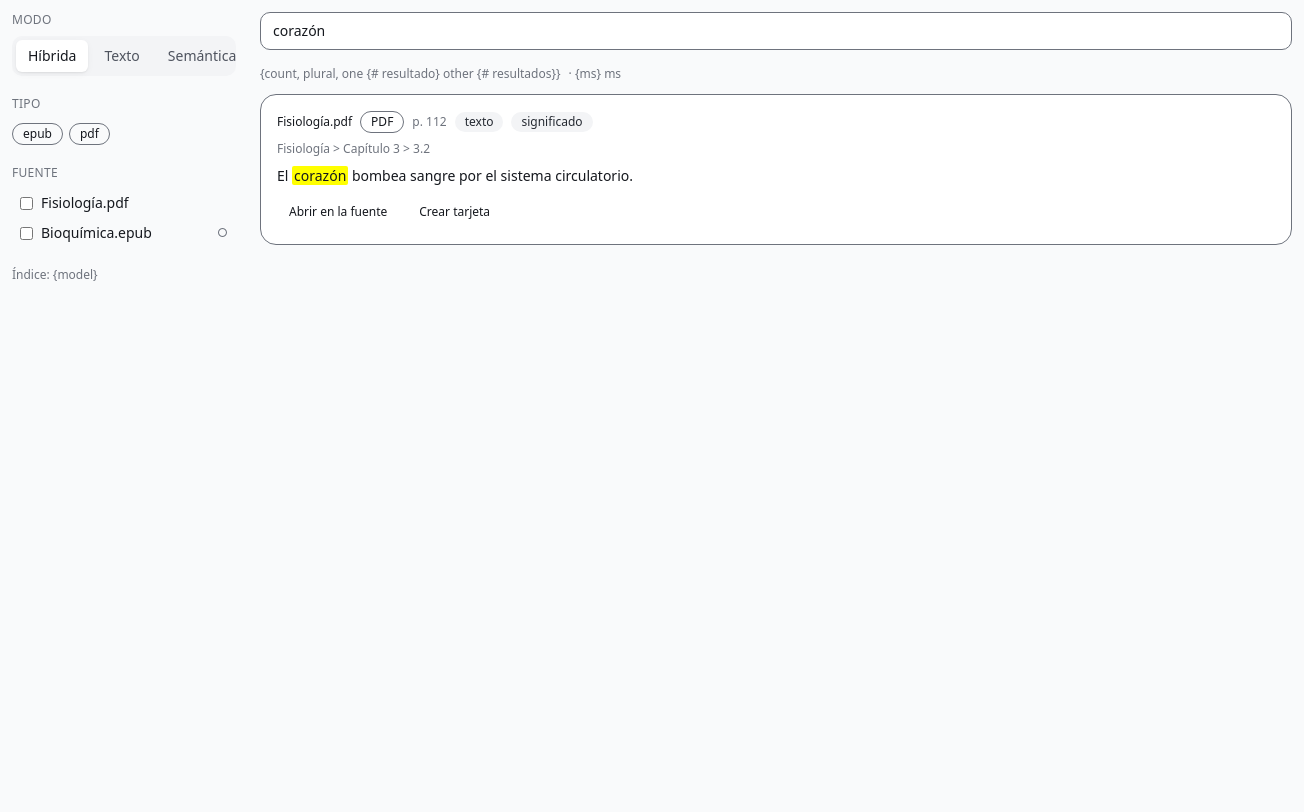
Test: the search screen › surfaces a failure to create the card rather than swallowing it
The image size is (1304, 812).
Click the button "Crear tarjeta". click: (455, 212)
box: [407,196,502,228]
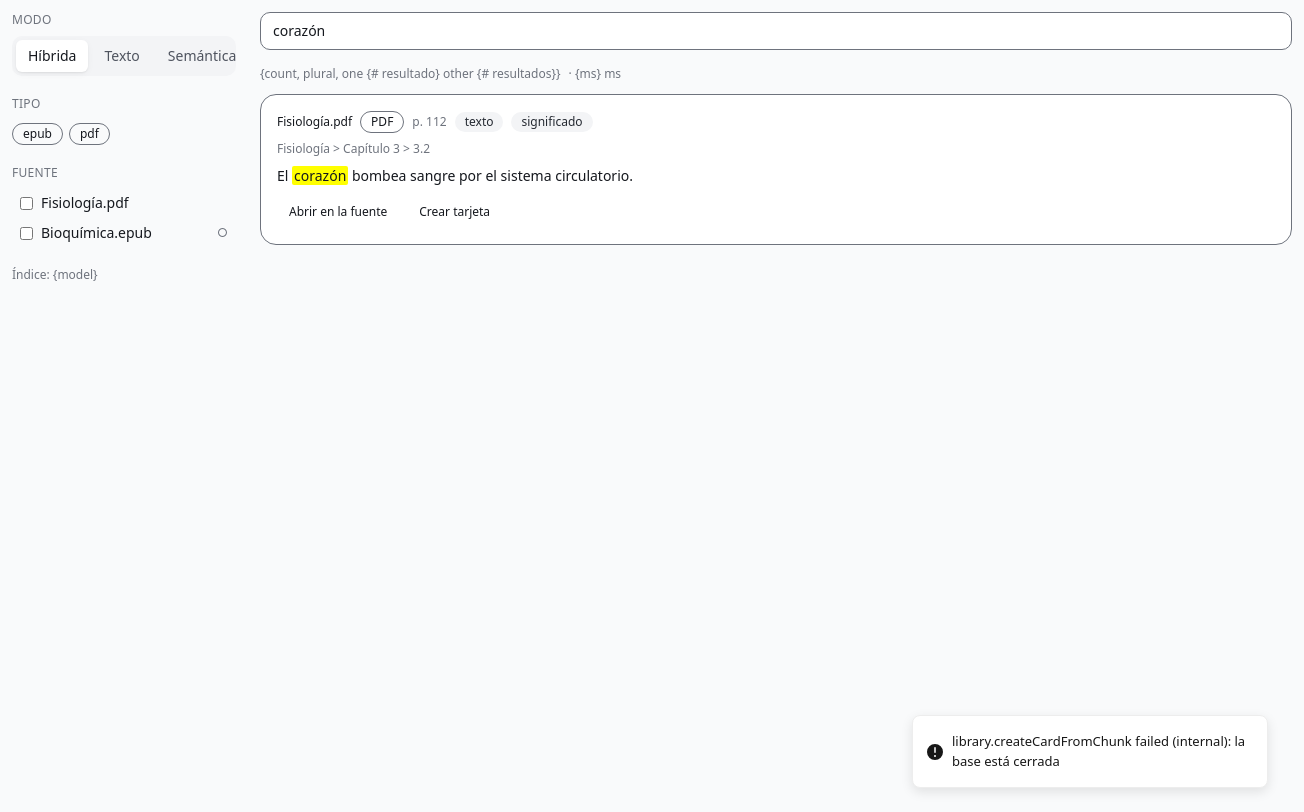
Expected: the text "la base está cerrada" is shown, [952,732,1245,770]
